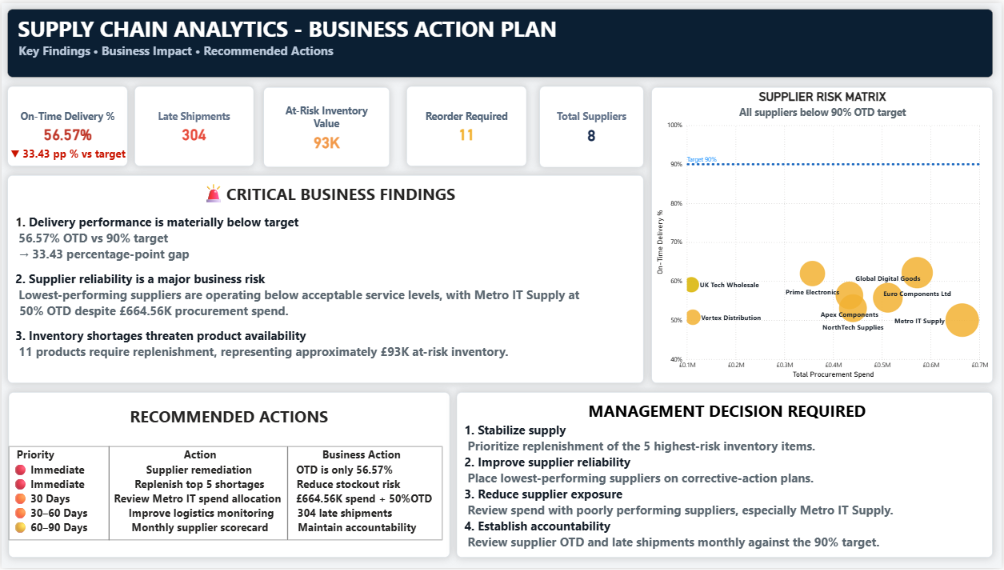

This screenshot's page, from the dashboard's own definition file:
{"tool":"powerbi","page":{"name":"Procurement & Supplier Performance.","canvas":[2200,1090],"ordinal":1},"visuals":[{"type":"textbox","box":[14,14,2170,132],"z":0},{"type":"slicer","title":"YEAR","fields":{"Values":["core orders.order_date.Variation.Date Hierarchy.Year","core orders.order_date.Variation.Date Hierarchy.Quarter","core orders.order_date.Variation.Date Hierarchy.Month","core orders.order_date.Variation.Date Hierarchy.Day"]},"box":[1597.6,28.6,273.8,102.4],"z":2000},{"type":"cardVisual","fields":{"Data":["core purchases.Total Purchase Orders"]},"box":[23.8,345.2,250,159.5],"z":4000},{"type":"cardVisual","fields":{"Data":["core inventory.Average Lead Time"]},"box":[23.8,521.4,252.4,159.5],"z":5000},{"type":"cardVisual","fields":{"Data":["Count(core suppliers.supplier_id)"]},"box":[23.8,904.8,254.8,159.5],"z":8000},{"type":"cardVisual","fields":{"Data":["core purchases.Total Procurement Spend"]},"box":[16.7,164.3,257.1,161.9],"z":9000},{"type":"cardVisual","fields":{"Data":["core shipments.On-Time Delivery %"]},"box":[23.8,700,252.4,183.3],"z":10000},{"type":"clusteredBarChart","title":"Procurement Spend by Supplier","fields":{"Category":["core suppliers.supplier_name"],"Y":["core purchases.Total Procurement Spend"]},"box":[297.6,164.3,966.7,516.7],"z":11000},{"type":"clusteredBarChart","title":"Supplier On-Time Delivery Performance","fields":{"Category":["core suppliers.supplier_name"],"Y":["core shipments.Overall On-Time Delivery %"]},"box":[297.6,700,966.7,364.3],"z":12000},{"type":"scatterChart","title":"Supplier Spend vs Delivery Performance","fields":{"Size":["core purchases.Total Purchase Orders"],"Y":["core shipments.On-Time Delivery %"],"X":["core suppliers.supplier_name"]},"box":[1281,164.3,902.4,516.7],"z":13000},{"type":"tableEx","title":"🚨 Management Action","fields":{"Values":["core suppliers.supplier_name","core purchases.Total Procurement Spend","core shipments.On-Time Delivery %","core inventory.Average Lead Time","core inventory.Supplier Risk Action"]},"box":[1281.8,700,903.6,365.5],"z":14000},{"type":"textbox","box":[19,838.1,266.7,45.2],"z":16000},{"type":"slicer","title":"MONTH","fields":{"Values":["core orders.order_date.Variation.Date Hierarchy.Month"]},"box":[1890.5,28.6,273.8,102.4],"z":18000}]}

Visuals, with their boxes on the page's 2200x1090 design canvas (x1, y1, x2, y2). These are canvas units, not pixel positions in the 1004x570 screenshot, which may show the page scaled, cropped or inside an application window:
textbox: crop(14, 14, 2184, 146)
"YEAR" slicer: crop(1598, 29, 1871, 131)
cardVisual - core purchases.Total Purchase Orders: crop(24, 345, 274, 505)
cardVisual - core inventory.Average Lead Time: crop(24, 521, 276, 681)
cardVisual - Count(core suppliers.supplier_id): crop(24, 905, 279, 1064)
cardVisual - core purchases.Total Procurement Spend: crop(17, 164, 274, 326)
cardVisual - core shipments.On-Time Delivery %: crop(24, 700, 276, 883)
"Procurement Spend by Supplier" clusteredBarChart: crop(298, 164, 1264, 681)
"Supplier On-Time Delivery Performance" clusteredBarChart: crop(298, 700, 1264, 1064)
"Supplier Spend vs Delivery Performance" scatterChart: crop(1281, 164, 2183, 681)
"🚨 Management Action" tableEx: crop(1282, 700, 2185, 1066)
textbox: crop(19, 838, 286, 883)
"MONTH" slicer: crop(1890, 29, 2164, 131)
